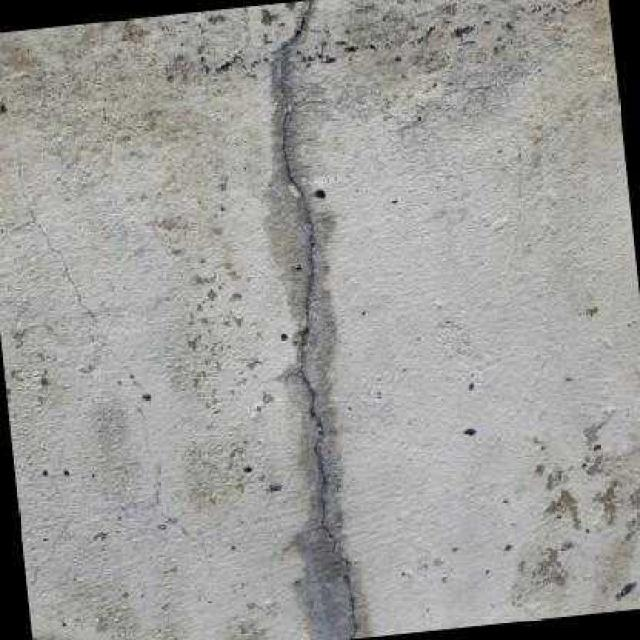D00: (274, 0, 359, 638)
